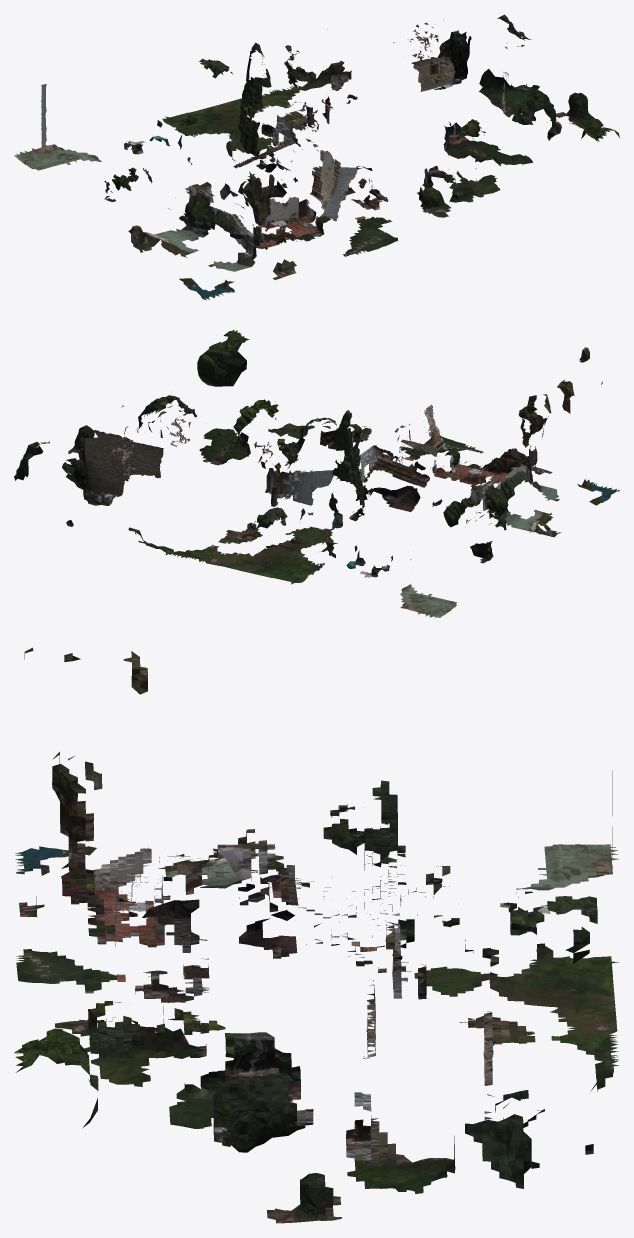
Rendered from exterior_1.glb.
3 views of the same model, one above another, from view 1: azimuth 30°, elevation 25°; view 2: azimuth 150°, elevation 25°; view 3: azimuth 270°, elevation 25° (orthographic). The views are drawn at different scales.
Parts seen in each view (by area): view 1: geometry_0; view 2: geometry_0; view 3: geometry_0.
Part boxes in pixels (<box>): geometry_0: <box>14,14,619,300</box>; geometry_0: <box>14,329,619,617</box>; geometry_0: <box>14,647,619,1223</box>.
Size of the model in its own units: 52.57 by 15.64 by 36.63.
1 material, 1 textured.
